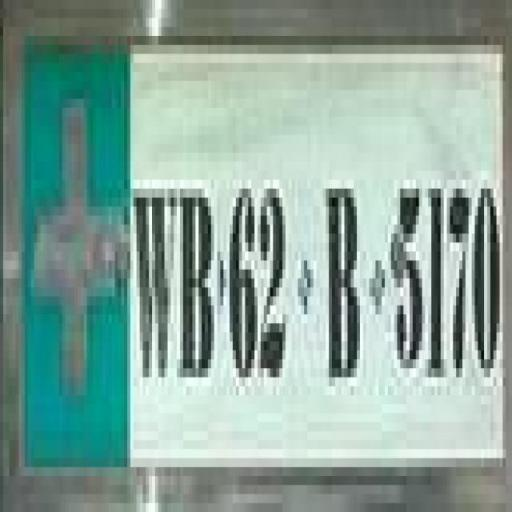number plate: (9, 36, 512, 476)
